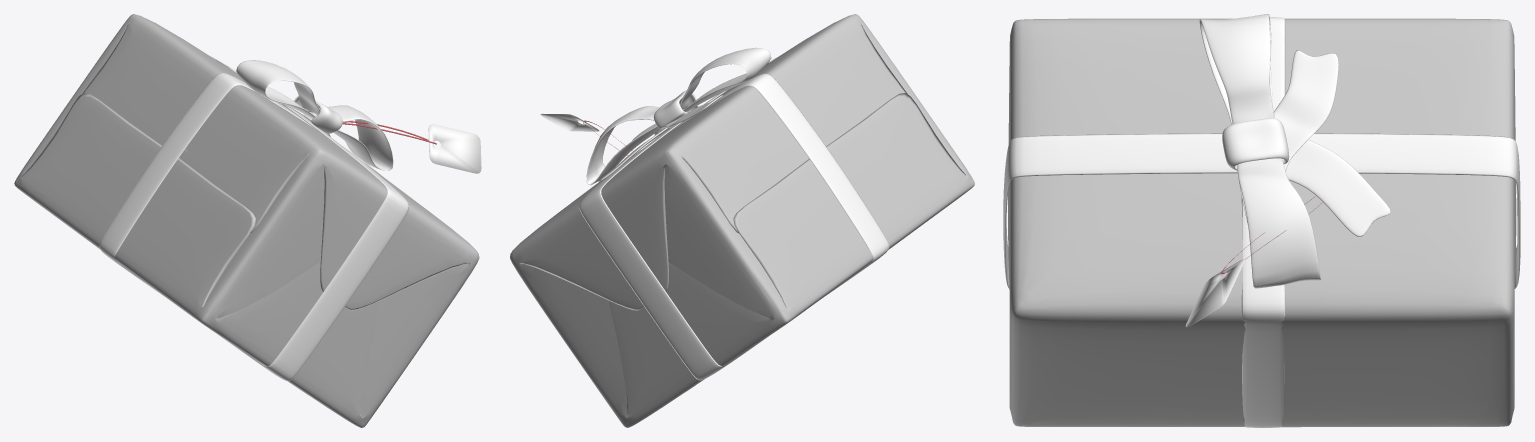
Rendered from regalo1.obj.
3 renders of one model, left to right at view 1: azimuth 30°, elevation 25°; view 2: azimuth 150°, elevation 25°; view 3: azimuth 270°, elevation 25°, orthographic. The views are drawn at different scales.
Visible parts, largest first — view 1: gift_box_gift_box_Material__25, gift_box_gift_box_Material__26, BOX_BOX_07___Default; view 2: gift_box_gift_box_Material__25, gift_box_gift_box_Material__26, BOX_BOX_07___Default; view 3: gift_box_gift_box_Material__25, gift_box_gift_box_Material__26, BOX_BOX_07___Default.
Part boxes in pixels (x1,y1,x2,y2): gift_box_gift_box_Material__25: (14,14,479,427); gift_box_gift_box_Material__26: (99,56,408,380); BOX_BOX_07___Default: (428,124,481,173); gift_box_gift_box_Material__25: (510,14,974,427); gift_box_gift_box_Material__26: (579,47,889,380); BOX_BOX_07___Default: (540,113,599,131); gift_box_gift_box_Material__25: (1008,18,1516,427); gift_box_gift_box_Material__26: (1003,14,1520,427); BOX_BOX_07___Default: (1185,259,1244,327).
Size of the model in its own units: 1.91 by 1.54 by 1.82.
